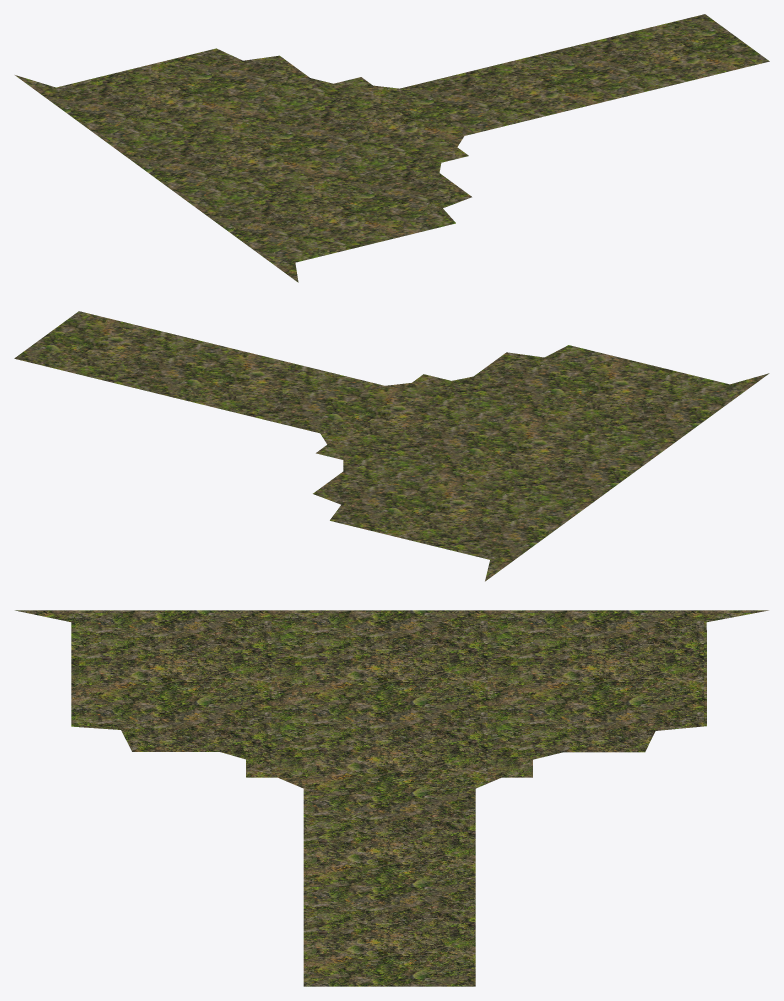
Rendered from Planter_DirtPlane_Unique11.FBX.
The picture shows the model from 3 angles, top to bottom: view 1: azimuth 30°, elevation 25°; view 2: azimuth 150°, elevation 25°; view 3: azimuth 270°, elevation 25°; orthographic projection. The views are drawn at different scales.
Visible parts, largest first — view 1: Planter_DirtPlane_Unique11; view 2: Planter_DirtPlane_Unique11; view 3: Planter_DirtPlane_Unique11.
Boxes of the visible parts, x1,y1,x2,y2 form: Planter_DirtPlane_Unique11: [15, 14, 769, 282]; Planter_DirtPlane_Unique11: [14, 311, 769, 581]; Planter_DirtPlane_Unique11: [15, 610, 768, 986].
Bounding box in the file's own units: 15.63 × 3.76e-15 × 13.27.
